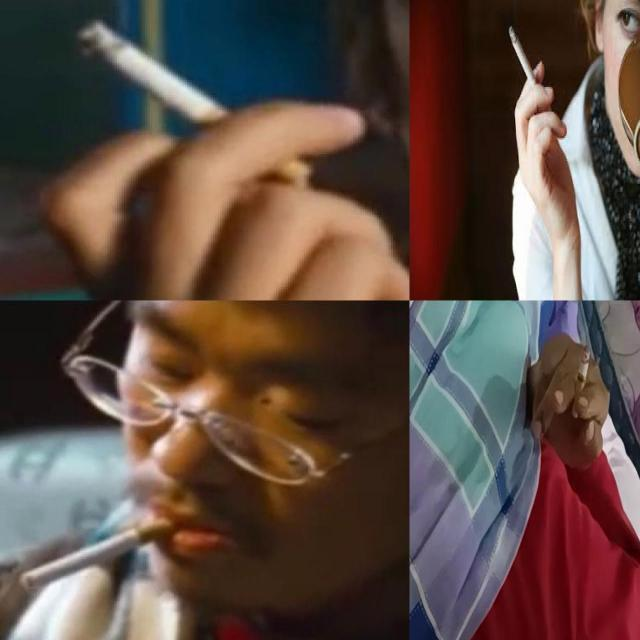smoking: (78, 18, 310, 188), (19, 512, 191, 592), (509, 26, 545, 110), (570, 345, 590, 419)
